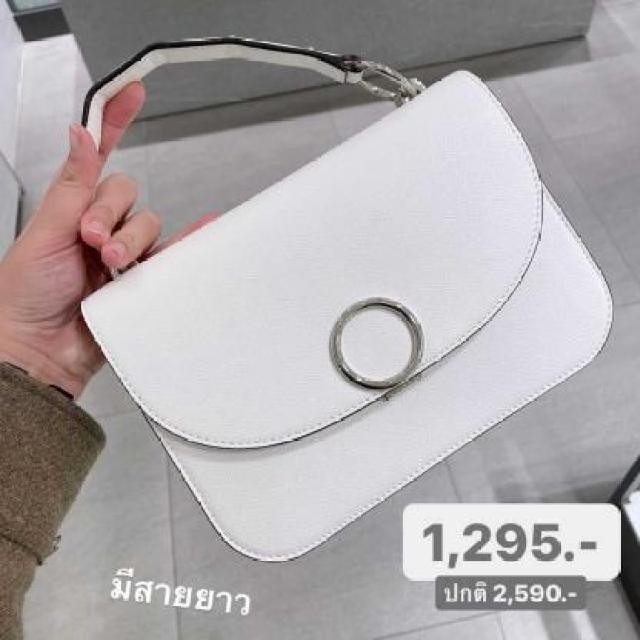Bag: (31, 9, 612, 589)
